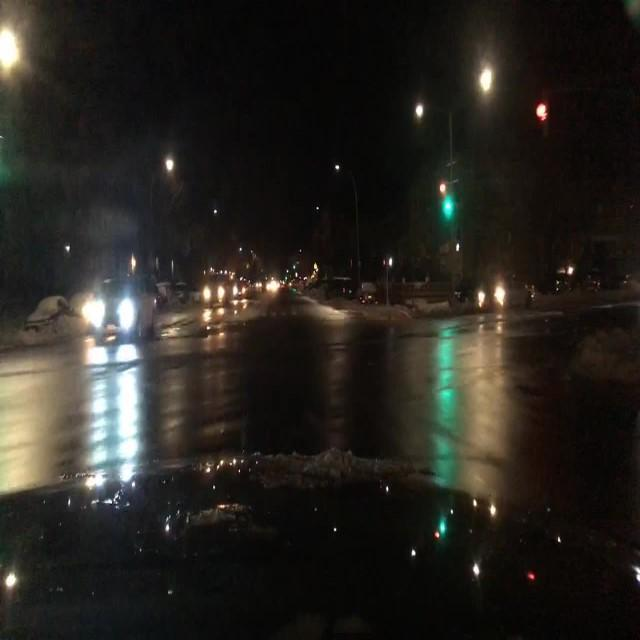normal: (51, 252, 210, 370)
